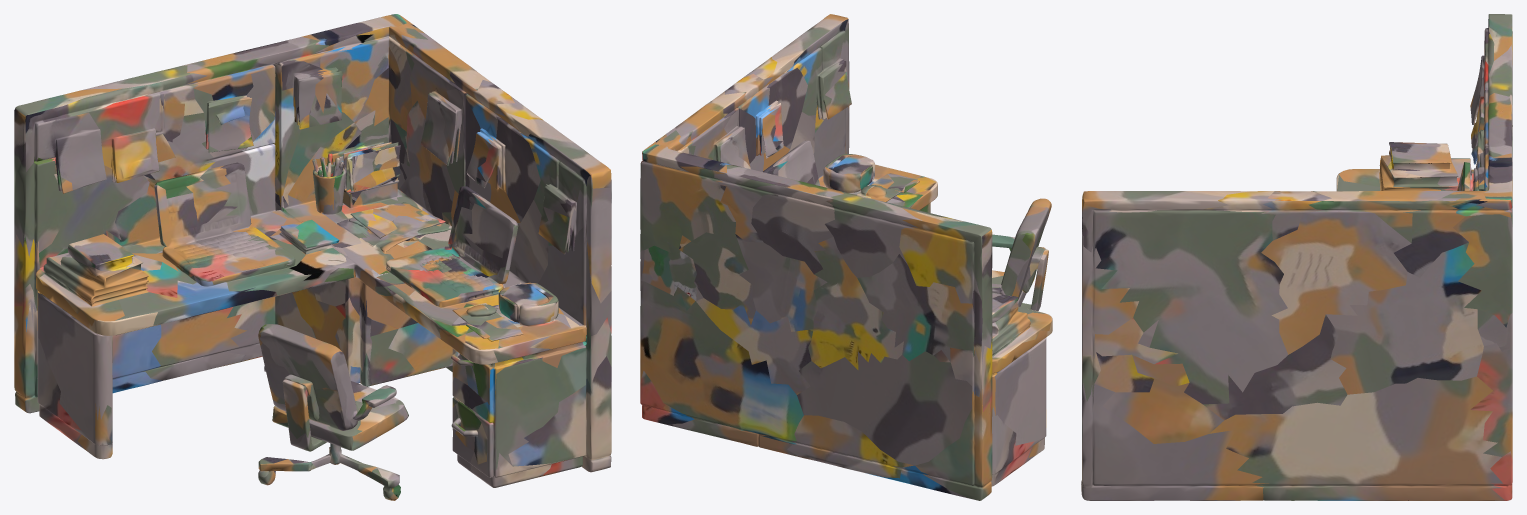
Rendered from office-desk.fbx.
3 renders of one model, left to right at view 1: azimuth 30°, elevation 25°; view 2: azimuth 150°, elevation 25°; view 3: azimuth 270°, elevation 25°, orthographic. The views are drawn at different scales.
Parts seen in each view (by area): view 1: tripo_node_3d595264; view 2: tripo_node_3d595264; view 3: tripo_node_3d595264.
Boxes of the visible parts, left/top/right/bottom form: tripo_node_3d595264: left=14, top=14, right=611, bottom=500; tripo_node_3d595264: left=640, top=14, right=1052, bottom=500; tripo_node_3d595264: left=1081, top=14, right=1512, bottom=500.
Size of the model in its own units: 0.9795 by 0.7296 by 0.9483.
